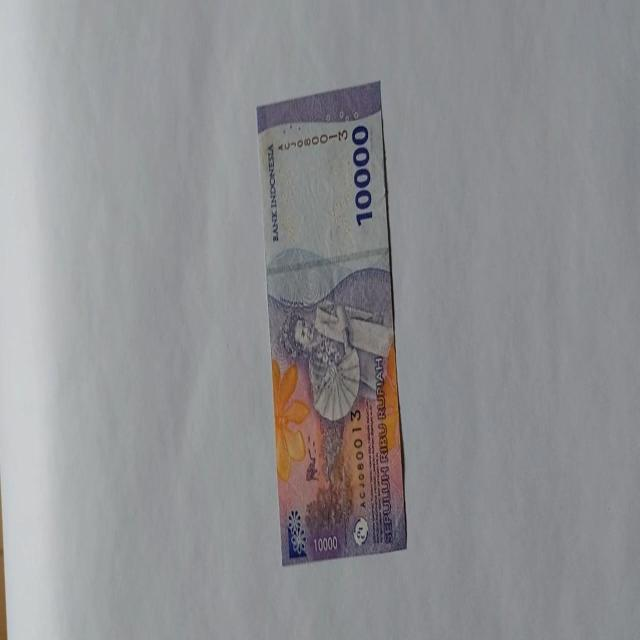Kertas: (255, 79, 408, 565)
